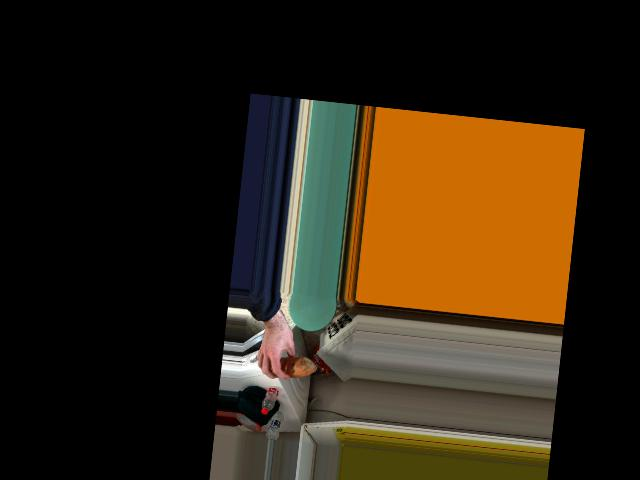sweet_potato: (272, 349, 307, 377)
